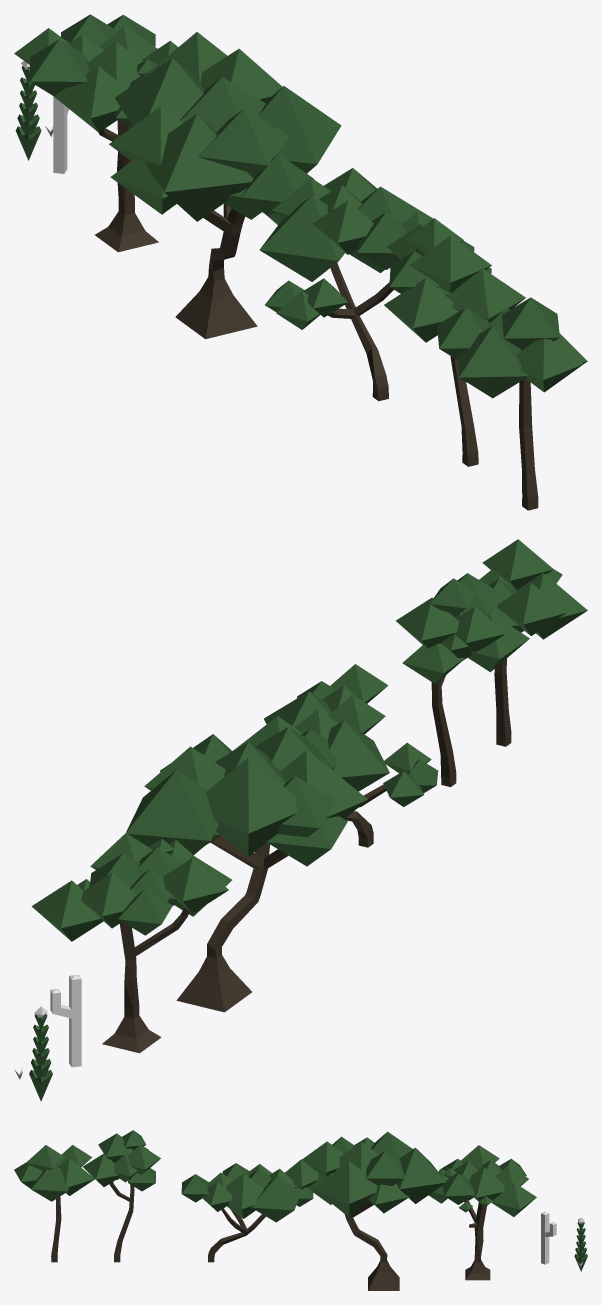
File: Trees.fbx
The picture shows the model from 3 angles, top to bottom: view 1: azimuth 30°, elevation 25°; view 2: azimuth 150°, elevation 25°; view 3: azimuth 270°, elevation 25°; orthographic projection. The views are drawn at different scales.
Visible parts, largest first — view 1: Tree 1, Tree 3, Tree 2, Tree 5, Tree 4, Desert Rose, Cactus 1; view 2: Tree 1, Tree 2, Tree 3, Tree 4, Tree 5, Cactus 1, Desert Rose; view 3: Tree 1, Tree 3, Tree 2, Tree 4, Tree 5, Cactus 1, Desert Rose.
Boxes of the visible parts, x1,y1,x2,y2 form: Tree 1: (109,32,341,339); Tree 3: (259,168,433,401); Tree 2: (14,14,177,252); Tree 5: (437,297,587,510); Tree 4: (384,218,525,466); Desert Rose: (15,61,41,160); Cactus 1: (53,96,68,173); Tree 1: (126,726,367,1012); Tree 2: (31,833,232,1053); Tree 3: (233,664,438,847); Tree 4: (396,573,529,787); Tree 5: (479,539,587,746); Cactus 1: (50,974,81,1067); Desert Rose: (29,1006,52,1101); Tree 1: (285,1131,446,1290); Tree 3: (181,1163,313,1262); Tree 2: (428,1145,536,1280); Tree 4: (83,1130,160,1262); Tree 5: (14,1145,94,1262); Cactus 1: (541,1211,556,1264); Desert Rose: (574,1217,587,1271).
Size of the model in its own units: 807 by 1047 by 3659.
